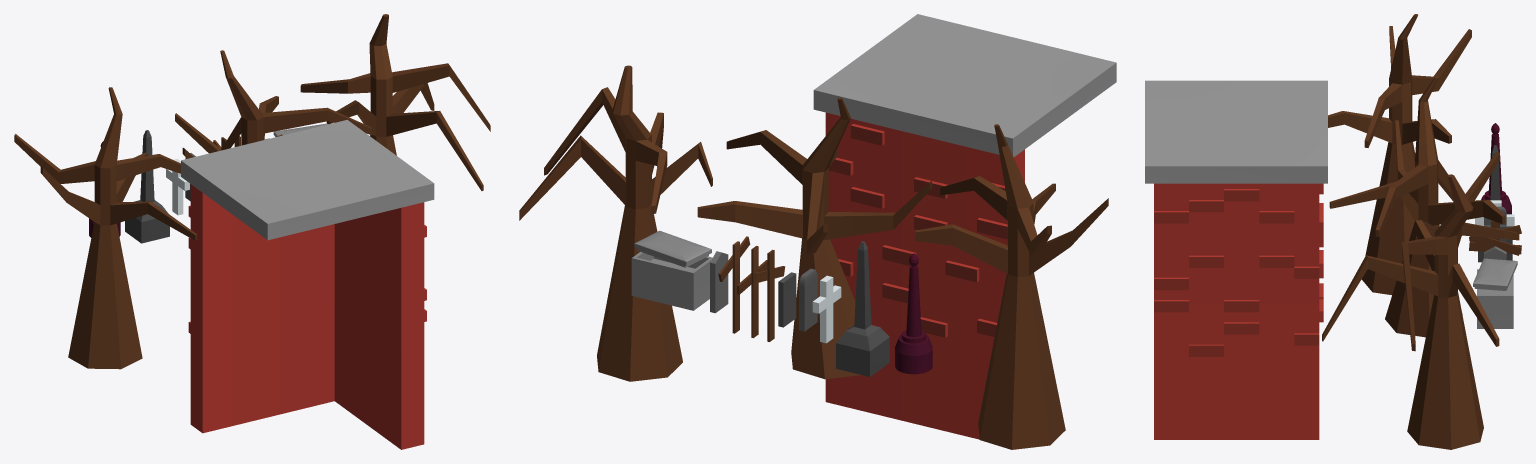
File: PossumEnviro.fbx
3 renders of one model, left to right at view 1: azimuth 30°, elevation 25°; view 2: azimuth 150°, elevation 25°; view 3: azimuth 270°, elevation 25°, orthographic. The views are drawn at different scales.
Parts seen in each view (by area): view 1: Cube.017, Cube.018, Cylinder.001, Cylinder.003, Cylinder.002, Cube.003, Cube.002; view 2: Cube.017, Cube.018, Cylinder.001, Cylinder.003, Cylinder.002, Cube.010, Cube.003, Cylinder, Cube.011, Cube.002, Cube.001, Cube.009 (+4 smaller); view 3: Cube.017, Cube.018, Cylinder.003, Cylinder.001, Cylinder.002, Cube.010, Cube.011, Cylinder, Cube.003, Cube.009.
Part boxes in pixels (left/top/right/bottom): Cube.017: left=188, top=184, right=426, bottom=449; Cube.018: left=181, top=119, right=434, bottom=240; Cylinder.001: left=14, top=87, right=197, bottom=369; Cylinder.003: left=300, top=14, right=490, bottom=190; Cylinder.002: left=175, top=50, right=372, bottom=158; Cube.003: left=125, top=130, right=169, bottom=243; Cube.002: left=166, top=158, right=189, bottom=215; Cube.017: left=825, top=112, right=1024, bottom=439; Cube.018: left=813, top=14, right=1116, bottom=156; Cylinder.001: left=915, top=124, right=1108, bottom=449; Cylinder.003: left=519, top=65, right=712, bottom=381; Cylinder.002: left=697, top=97, right=931, bottom=379; Cube.010: left=631, top=252, right=712, bottom=310; Cube.003: left=836, top=241, right=889, bottom=376; Cylinder: left=895, top=253, right=932, bottom=374; Cube.011: left=634, top=230, right=711, bottom=267; Cube.002: left=812, top=275, right=841, bottom=343; Cube.001: left=799, top=268, right=817, bottom=331; Cube.009: left=718, top=236, right=750, bottom=333; Cube.017: left=1154, top=183, right=1323, bottom=439; Cube.018: left=1145, top=80, right=1327, bottom=183; Cylinder.003: left=1322, top=174, right=1519, bottom=449; Cylinder.001: left=1328, top=14, right=1471, bottom=294; Cylinder.002: left=1329, top=76, right=1505, bottom=337; Cube.010: left=1477, top=269, right=1513, bottom=328; Cube.011: left=1473, top=258, right=1517, bottom=290; Cylinder: left=1481, top=123, right=1511, bottom=214; Cube.003: left=1478, top=145, right=1512, bottom=262; Cube.009: left=1469, top=228, right=1521, bottom=255.
Size of the model in its own units: 4943 by 3195 by 3328.
Materials: 1 (1 with a texture image).
